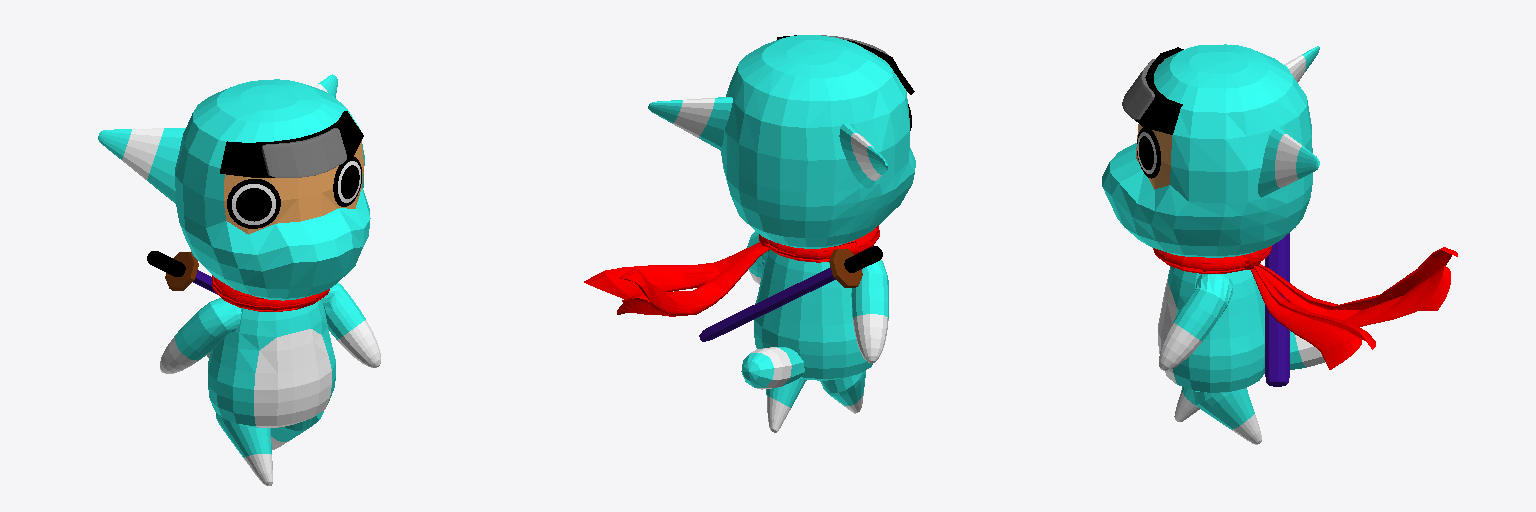
Rendered from ninja_walk_3.obj.
The picture shows the model from 3 angles: view 1: azimuth 30°, elevation 25°; view 2: azimuth 150°, elevation 25°; view 3: azimuth 270°, elevation 25°; orthographic projection.
Parts seen in each view (by area): view 1: default; view 2: default; view 3: default.
Boxes of the visible parts, x1,y1,x2,y2 form: default: [98, 74, 380, 485]; default: [584, 35, 915, 432]; default: [1102, 44, 1457, 444].
Size of the model in its own units: 1.62 by 2.08 by 1.8.